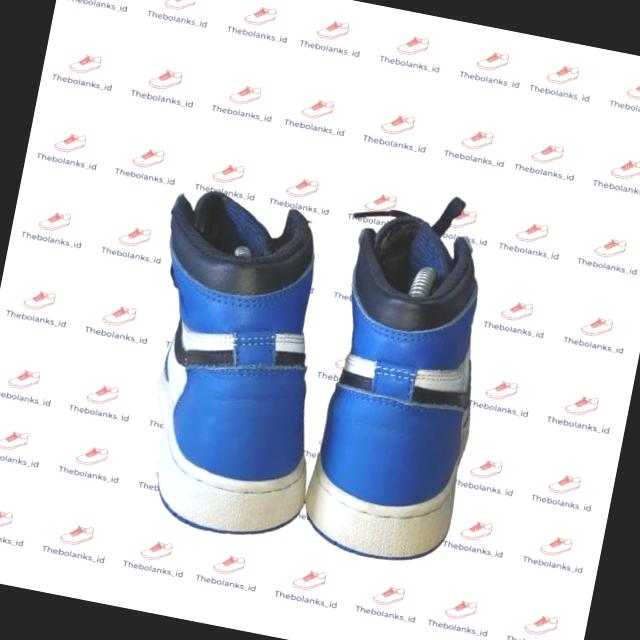nike_fake_jordan: (123, 186, 362, 552), (294, 211, 508, 575)
